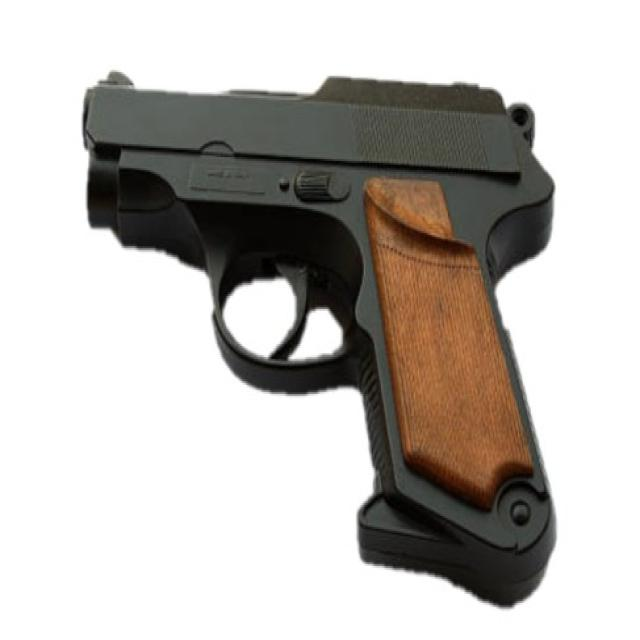pistol: (76, 63, 562, 616)
